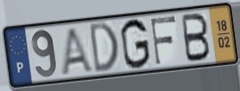9: (30, 29, 59, 80)
A: (59, 26, 96, 76)
B: (180, 12, 212, 64)
D: (88, 20, 120, 76)
F: (149, 14, 178, 67)
G: (119, 17, 152, 71)
